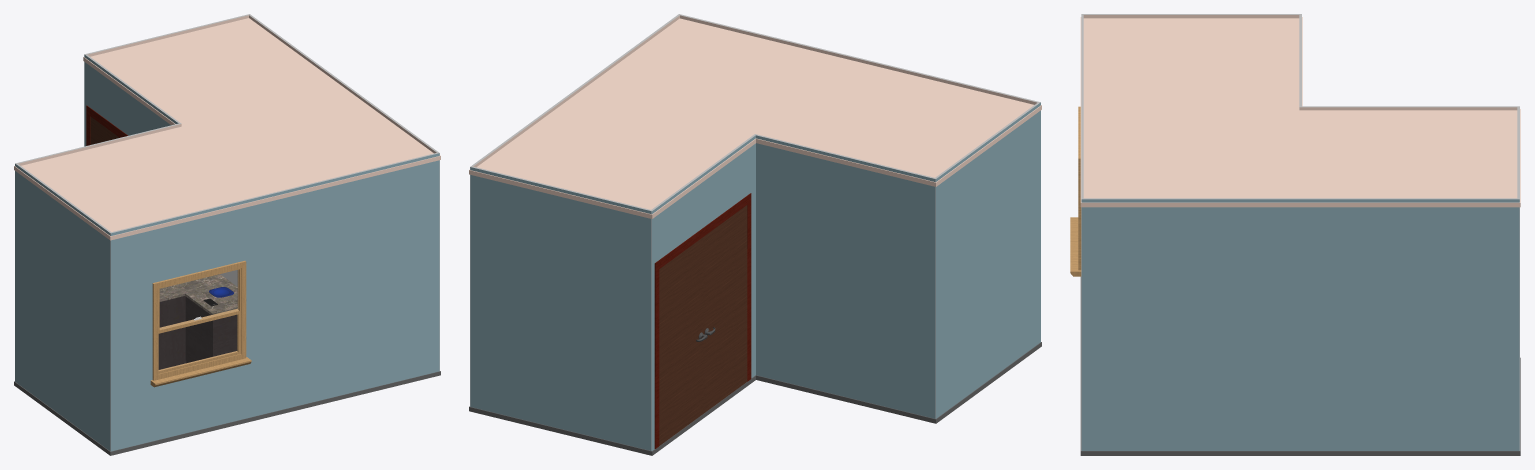
Rendered from ProcTHOR-Train-27.glb.
The picture shows the model from 3 angles, left to right: view 1: azimuth 30°, elevation 25°; view 2: azimuth 150°, elevation 25°; view 3: azimuth 270°, elevation 25°; orthographic projection. The views are drawn at different scales.
Visible parts, largest first — view 1: WallInside#wall|exterior|0.00|4.32|4.32|4.32, Ceiling#room|2|c, WallInside#wall|exterior|4.32|2.16|4.32|4.32, Countertop_C_8x4, Window_Hung_48x44, WallInside#wall|exterior|2.16|0.00|2.16|2.16, Floor#room|2|f, WallInside#wall|2|0.00|0.00|0.00|4.32, WallInside#wall|2|2.16|2.16|4.32|2.16, WallInside#wall|2|0.00|0.00|2.16|0.00, WallInside#wall|exterior|0.00|0.00|0.00|4.32, Doorway_Double_1 (+1 smaller); view 2: Ceiling#room|2|c, WallInside#wall|exterior|0.00|0.00|2.16|0.00, WallInside#wall|exterior|2.16|2.16|4.32|2.16, WallInside#wall|exterior|4.32|2.16|4.32|4.32, Doorway_Door_1b, Doorway_Door_1a, WallInside#wall|exterior|2.16|0.00|2.16|2.16, Floor#room|2|f, Doorway_Double_1, WallInside#wall|2|0.00|4.32|4.32|4.32, WallInside#wall|2|0.00|0.00|0.00|4.32, WallInside#wall|exterior|0.00|0.00|0.00|4.32; view 3: WallInside#wall|exterior|0.00|0.00|0.00|4.32, Ceiling#room|2|c, Floor#room|2|f, WallInside#wall|2|2.16|0.00|2.16|2.16, WallInside#wall|2|4.32|2.16|4.32|4.32, Window_Hung_48x44, WallInside#wall|exterior|0.00|4.32|4.32|4.32.
Part boxes in pixels (x1,y1,x2,y2): WallInside#wall|exterior|0.00|4.32|4.32|4.32: [110, 153, 439, 451]; Ceiling#room|2|c: [14, 18, 440, 240]; WallInside#wall|exterior|4.32|2.16|4.32|4.32: [15, 163, 110, 451]; Countertop_C_8x4: [158, 274, 237, 369]; Window_Hung_48x44: [150, 260, 251, 387]; WallInside#wall|exterior|2.16|0.00|2.16|2.16: [84, 54, 179, 146]; Floor#room|2|f: [14, 270, 440, 455]; WallInside#wall|2|0.00|0.00|0.00|4.32: [248, 14, 437, 153]; WallInside#wall|2|2.16|2.16|4.32|2.16: [18, 123, 181, 165]; WallInside#wall|2|0.00|0.00|2.16|0.00: [86, 14, 250, 56]; WallInside#wall|exterior|0.00|0.00|0.00|4.32: [250, 14, 439, 370]; Doorway_Double_1: [86, 105, 127, 145]; Ceiling#room|2|c: [469, 18, 1041, 218]; WallInside#wall|exterior|0.00|0.00|2.16|0.00: [470, 166, 651, 450]; WallInside#wall|exterior|2.16|2.16|4.32|2.16: [754, 134, 935, 418]; WallInside#wall|exterior|4.32|2.16|4.32|4.32: [935, 102, 1040, 418]; Doorway_Door_1b: [659, 237, 703, 445]; Doorway_Door_1a: [703, 205, 747, 413]; WallInside#wall|exterior|2.16|0.00|2.16|2.16: [651, 134, 756, 450]; Floor#room|2|f: [469, 342, 1041, 455]; Doorway_Double_1: [654, 193, 751, 448]; WallInside#wall|2|0.00|4.32|4.32|4.32: [678, 14, 1039, 104]; WallInside#wall|2|0.00|0.00|0.00|4.32: [472, 14, 680, 167]; WallInside#wall|exterior|0.00|0.00|0.00|4.32: [470, 14, 679, 406]; WallInside#wall|exterior|0.00|0.00|0.00|4.32: [1081, 199, 1519, 450]; Ceiling#room|2|c: [1080, 17, 1520, 207]; Floor#room|2|f: [1080, 277, 1520, 455]; WallInside#wall|2|2.16|0.00|2.16|2.16: [1299, 106, 1518, 110]; WallInside#wall|2|4.32|2.16|4.32|4.32: [1082, 14, 1301, 18]; Window_Hung_48x44: [1070, 106, 1081, 276]; WallInside#wall|exterior|0.00|4.32|4.32|4.32: [1081, 14, 1082, 450].
Size of what is drawn, in the model's own units: 4.36 by 2.8 by 4.46.
79 materials, 27 textured.
